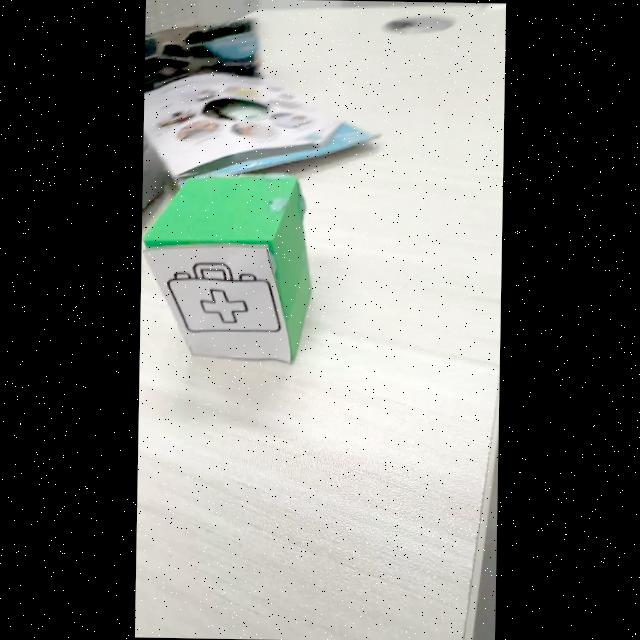Medkit: (167, 262, 279, 335)
